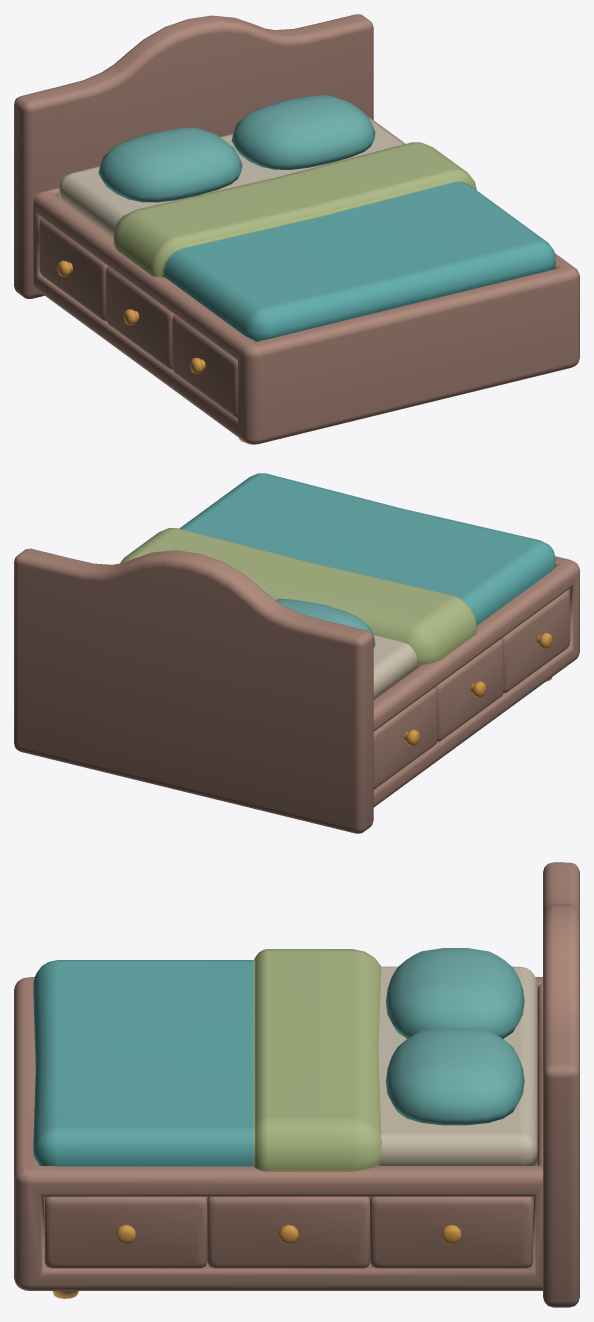
Rendered from Bed_02.glb.
3 renders of one model, top to bottom at view 1: azimuth 30°, elevation 25°; view 2: azimuth 150°, elevation 25°; view 3: azimuth 270°, elevation 25°, orthographic. The views are drawn at different scales.
Visible parts, largest first — view 1: Bed_02; view 2: Bed_02; view 3: Bed_02.
Boxes of the visible parts, bbox=[...] form: Bed_02: bbox=[14, 14, 579, 444]; Bed_02: bbox=[14, 473, 579, 833]; Bed_02: bbox=[14, 862, 579, 1307].
Size of the model in its own units: 1.92 by 1.2 by 2.14.
Materials: 1 (1 with a texture image).
